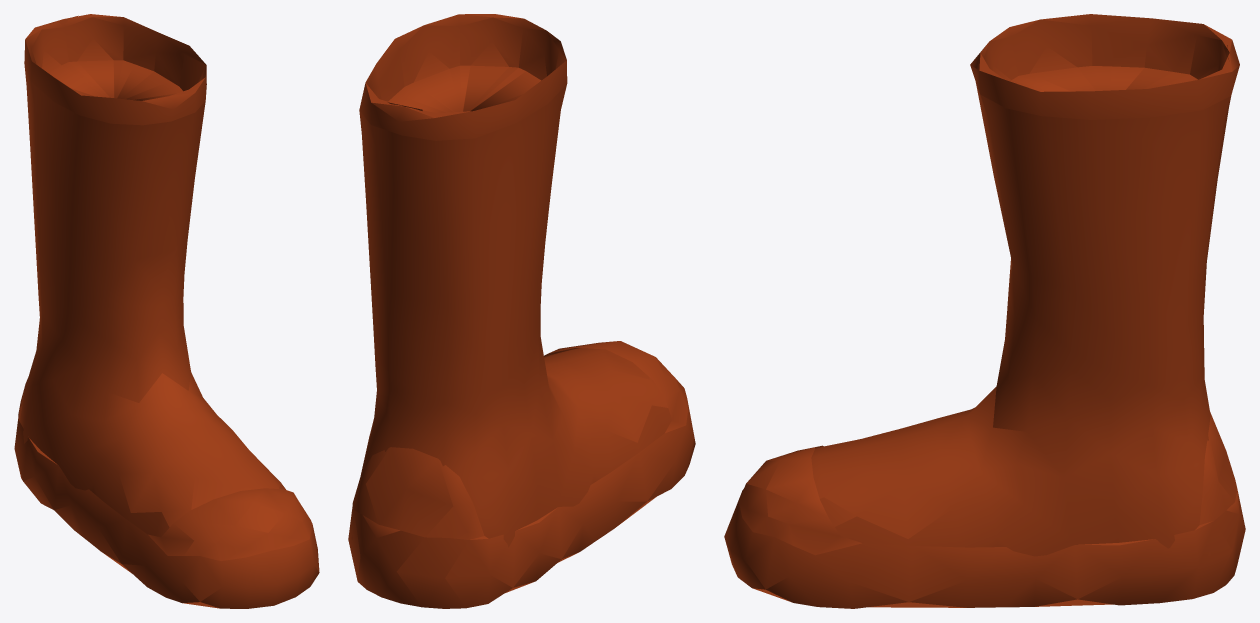
The model's file is RainShoe new.fbx.
3 views of the same model, side by side, from view 1: azimuth 30°, elevation 25°; view 2: azimuth 150°, elevation 25°; view 3: azimuth 270°, elevation 25° (orthographic). The views are drawn at different scales.
Parts seen in each view (by area): view 1: RainShoe new; view 2: RainShoe new; view 3: RainShoe new.
Part boxes in pixels (x1=…): RainShoe new: x1=14, y1=14, x2=319, y2=608; RainShoe new: x1=348, y1=14, x2=695, y2=608; RainShoe new: x1=724, y1=14, x2=1245, y2=608.
Bounding box in the file's own units: 29.54 × 78.74 × 72.54.
